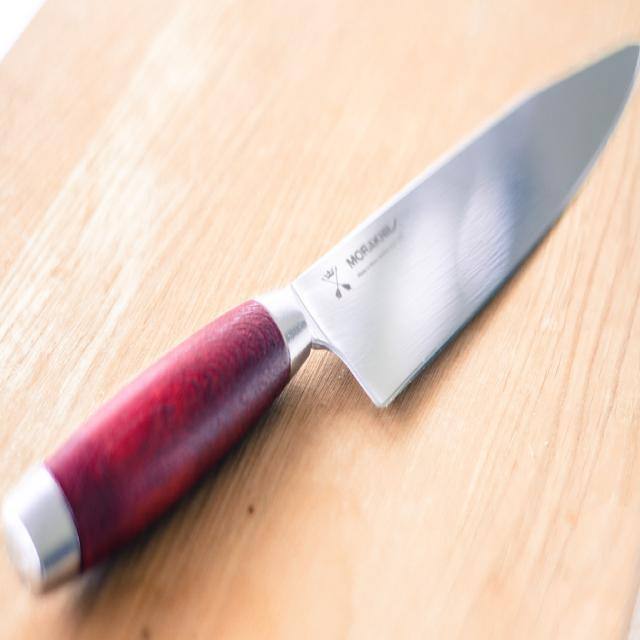Knife: (2, 46, 640, 591)
